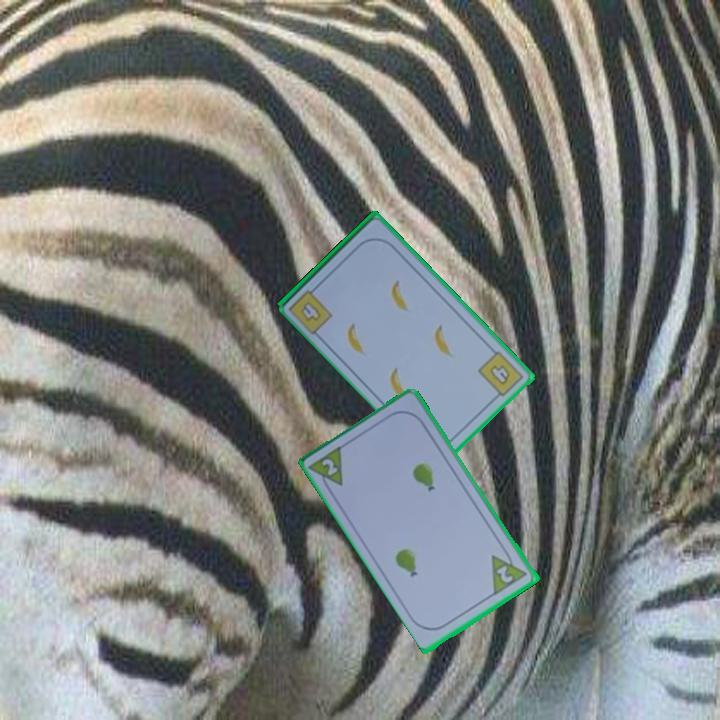2p: (306, 441, 347, 497), (488, 545, 531, 597)
4b: (474, 347, 526, 403), (297, 297, 324, 324)
